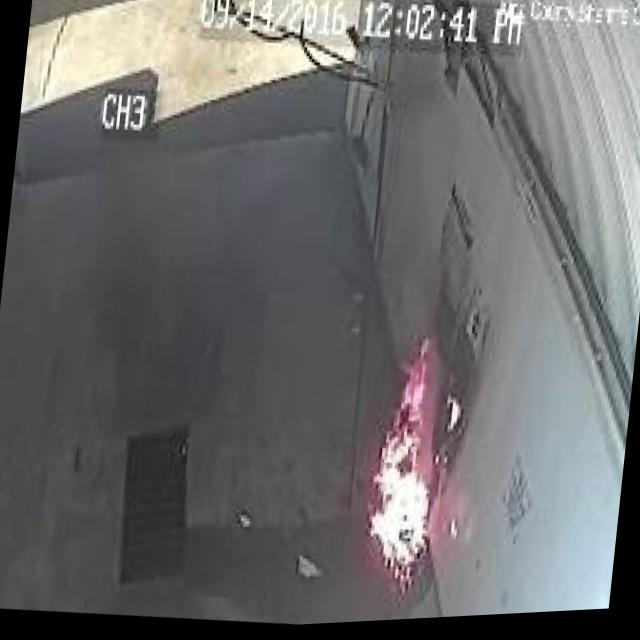fire: (344, 326, 474, 600)
